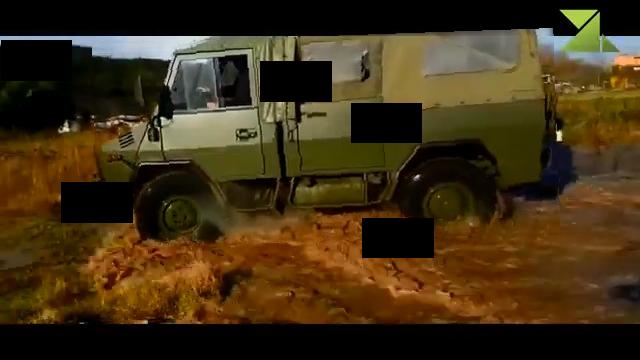MIL_HMMWV: (94, 32, 558, 245)
